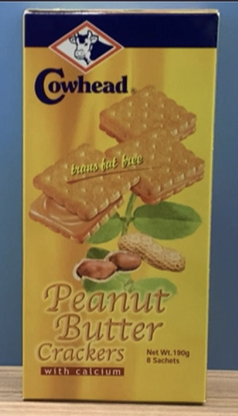crackers_100g-199g: (26, 24, 203, 392)
